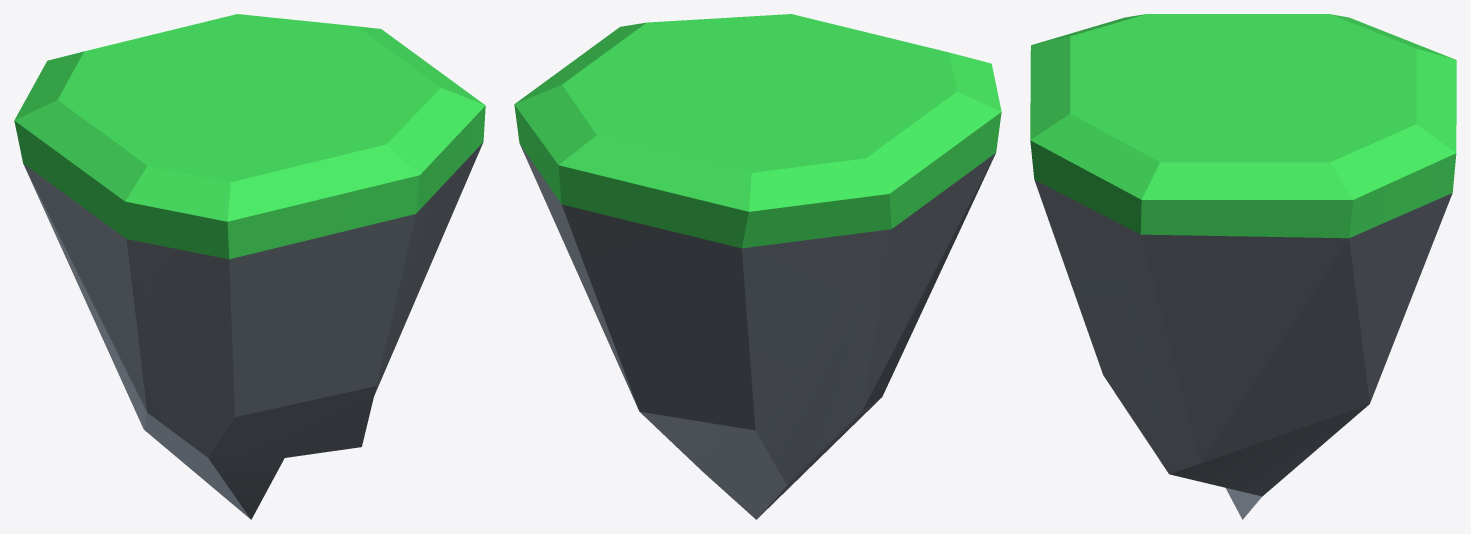
Rendered from testmodelsisland_Island_004.fbx.
The picture shows the model from 3 angles, left to right: view 1: azimuth 30°, elevation 25°; view 2: azimuth 150°, elevation 25°; view 3: azimuth 270°, elevation 25°; orthographic projection.
Visible parts, largest first — view 1: island_Island_004; view 2: island_Island_004; view 3: island_Island_004.
Boxes of the visible parts, box(x1,y1,x2,y2) form: island_Island_004: box(14, 14, 485, 519); island_Island_004: box(514, 14, 1001, 519); island_Island_004: box(1030, 14, 1456, 519).
Size of the model in its own units: 594 by 655 by 587.
